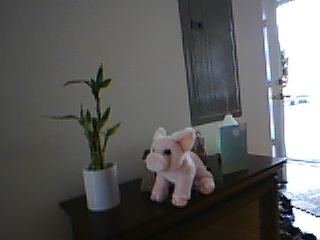piggy: (144, 125, 217, 208)
